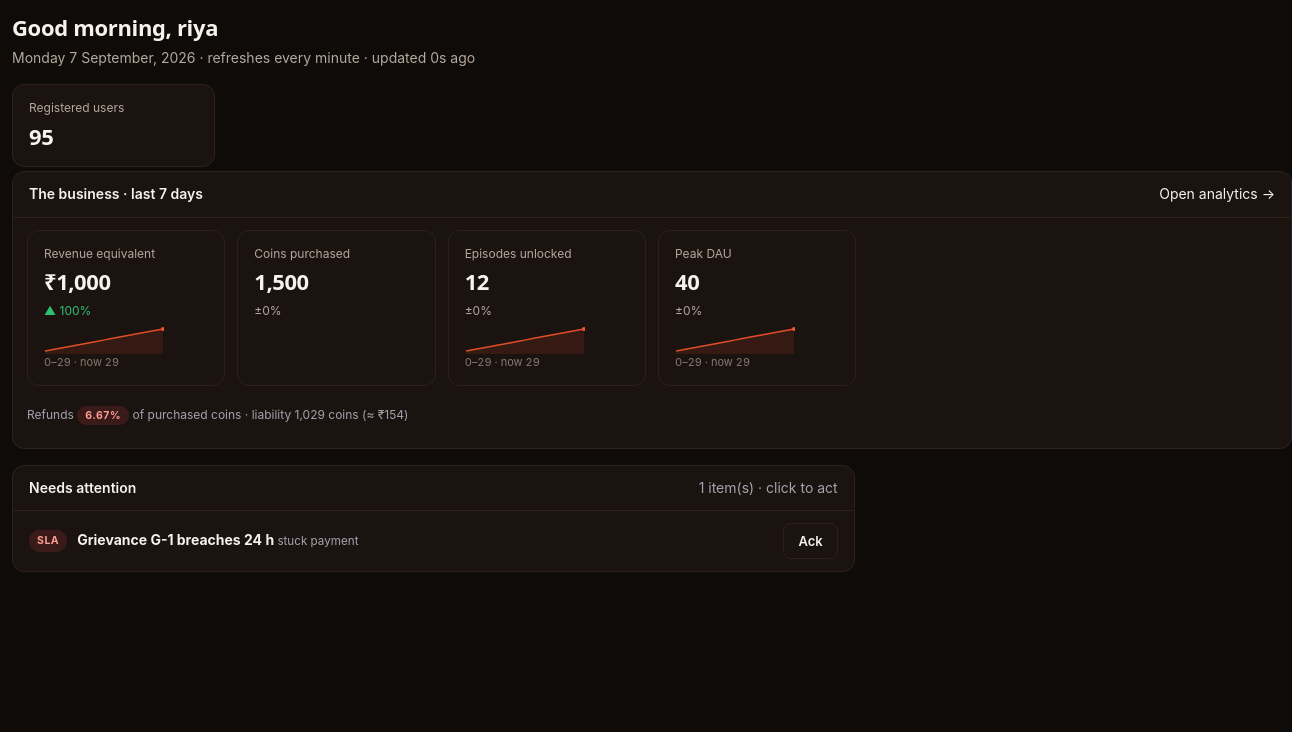
Test case: Overview — the business board (#009-#015) › attention items can be acknowledged and show their owner (#016)
This screenshot has width=1292, height=732.
Check: the text "Grievance G-1 breaches 24 h" is shown, box [77,531,274,548]
Step 1. Click the button "Ack" → [811, 541], box [783,523,838,559]
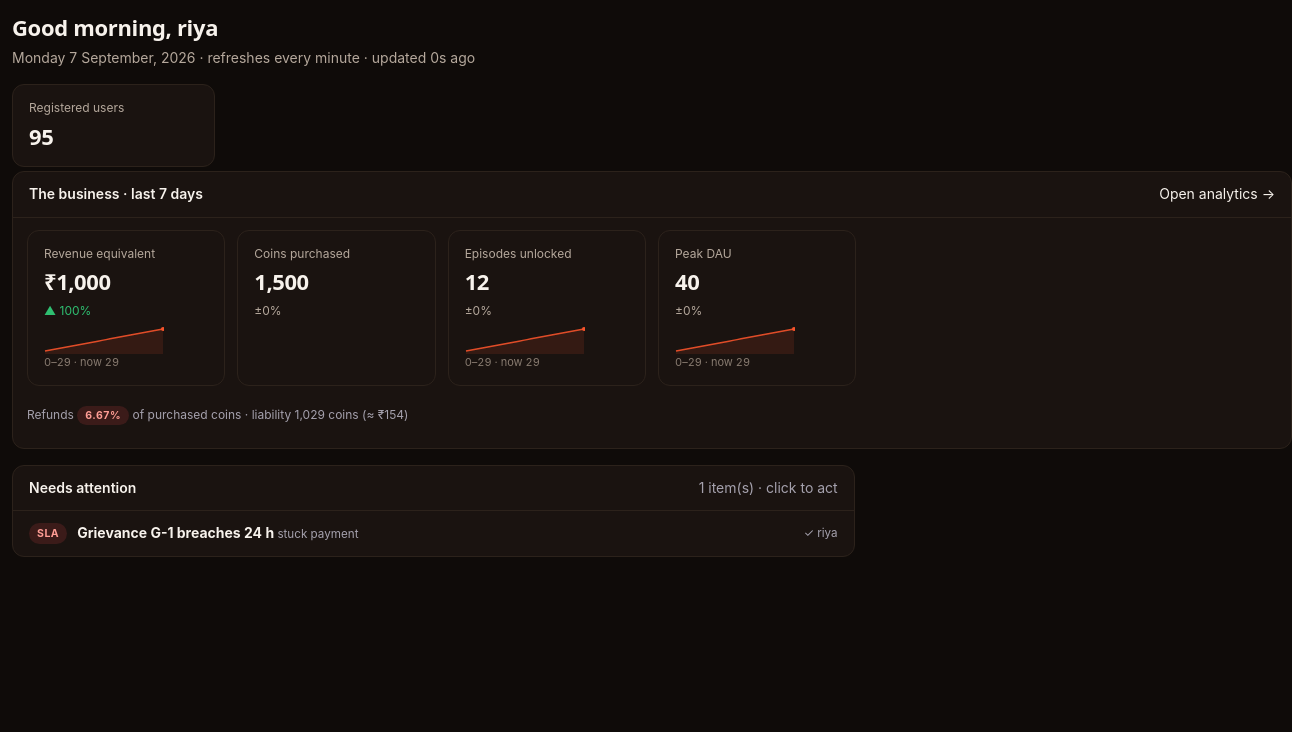
Check: the text "✓ riya" is shown, box [804,525,838,542]
